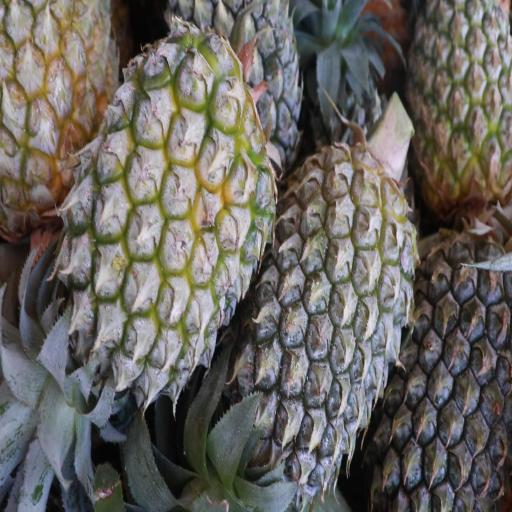------------------------------: (70, 50, 263, 389), (0, 0, 121, 215), (408, 0, 511, 205)
